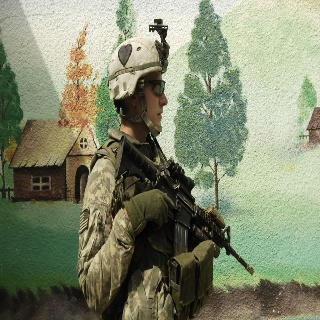rifle: (114, 135, 254, 288)
